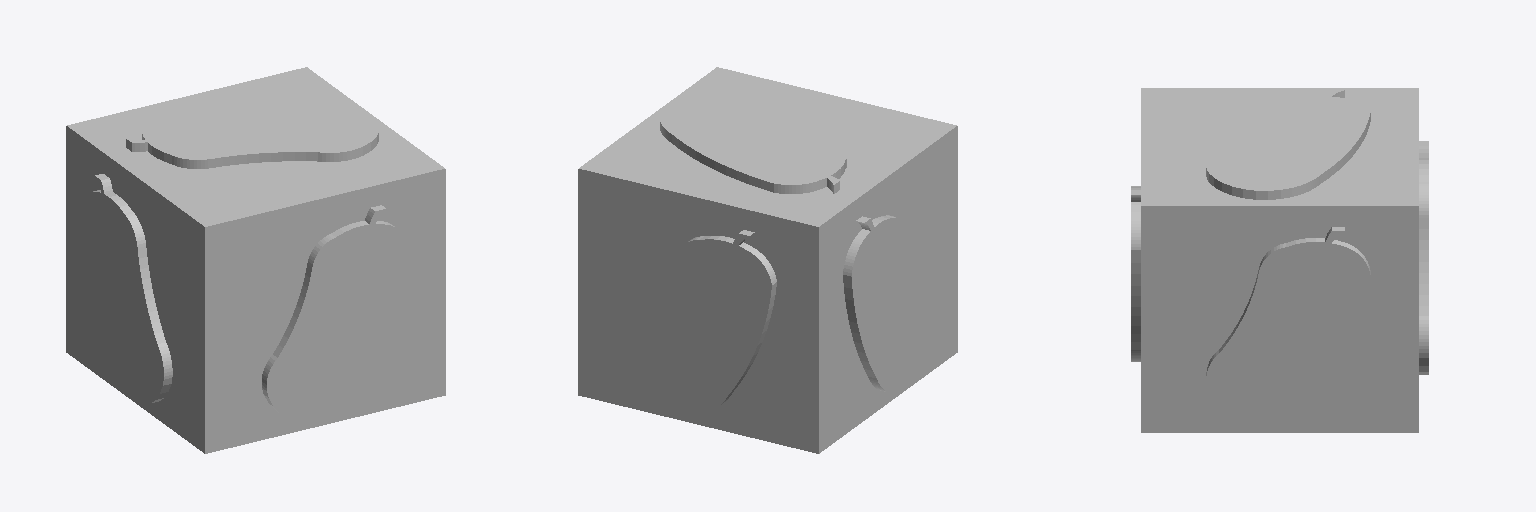
The model's file is Pickle.obj.
3 renders of one model, left to right at view 1: azimuth 30°, elevation 25°; view 2: azimuth 150°, elevation 25°; view 3: azimuth 270°, elevation 25°, orthographic.
Parts seen in each view (by area): view 1: group_1.001_ID13, group_4_ID122, group_6_ID216, group_5_ID169; view 2: group_1.001_ID13, group_3_ID75, group_6_ID216, group_5_ID169; view 3: group_1.001_ID13, group_2_ID22, group_6_ID216, group_3_ID75, group_4_ID122.
Boxes of the visible parts, x1,y1,x2,y2 form: group_1.001_ID13: [66, 67, 445, 453]; group_4_ID122: [262, 221, 408, 421]; group_6_ID216: [142, 104, 378, 168]; group_5_ID169: [82, 190, 172, 404]; group_1.001_ID13: [578, 67, 957, 453]; group_3_ID75: [630, 236, 776, 415]; group_6_ID216: [660, 94, 846, 193]; group_5_ID169: [843, 215, 933, 392]; group_1.001_ID13: [1141, 88, 1418, 432]; group_2_ID22: [1206, 238, 1370, 425]; group_6_ID216: [1206, 96, 1370, 199]; group_3_ID75: [1419, 160, 1428, 374]; group_4_ID122: [1131, 186, 1140, 361].
Bounding box in the file's own units: 1.69 × 1.48 × 1.69.